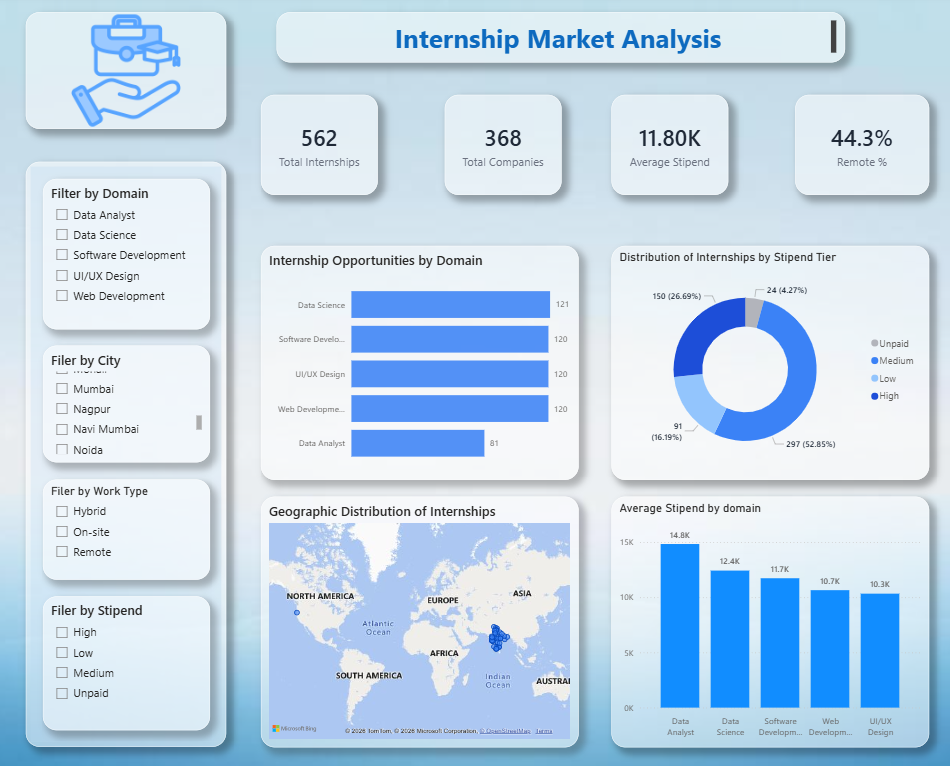

Layout of this report page (visuals, bound fields, positions):
{"tool":"powerbi","page":{"name":"Page 1","canvas":[1380,1120],"ordinal":0},"visuals":[{"type":"card","title":"Total Internships","fields":{"Values":["_Measure.Total Internships"]},"box":[384,144,168,144],"z":0},{"type":"card","title":"Remote Opportunity (%)","fields":{"Values":["_Measure.Remote %"]},"box":[1152,144,192,144],"z":1000},{"type":"card","fields":{"Values":["_Measure.Total Companies"]},"box":[648,144,168,144],"z":2000},{"type":"card","fields":{"Values":["_Measure.Average Stipend"]},"box":[888,144,168,144],"z":3000},{"type":"barChart","title":"Internship Opportunities by Domain","fields":{"Category":["internshala_cleaned_jobs.domain"],"Y":["CountNonNull(internshala_cleaned_jobs.job_title)"]},"box":[384,360,456,336],"z":4000},{"type":"donutChart","title":"Distribution of Internships by Stipend Tier","fields":{"Category":["internshala_cleaned_jobs.stipend_category"],"Y":["CountNonNull(internshala_cleaned_jobs.job_title)"]},"box":[888,360,456,336],"z":5000},{"type":"map","title":"Geographic Distribution of Internships","fields":{"Category":["internshala_cleaned_jobs.city"]},"box":[384,720,456,360],"z":6000},{"type":"columnChart","fields":{"Category":["internshala_cleaned_jobs.domain"],"Y":["_Measure.Average Stipend"]},"box":[888,720,456,360],"z":7000},{"type":"shape","box":[48,240,288,840],"z":8000},{"type":"slicer","title":"Filter by Domain","fields":{"Values":["internshala_cleaned_jobs.domain"]},"box":[72,264,240,216],"z":9000},{"type":"slicer","title":"Filer by Work Type","fields":{"Values":["internshala_cleaned_jobs.work_type"]},"box":[72,696,240,144],"z":10000},{"type":"slicer","title":"Filer by City","fields":{"Values":["internshala_cleaned_jobs.city"]},"box":[72,504,240,168],"z":11000},{"type":"slicer","title":"Filer by Stipend","fields":{"Values":["internshala_cleaned_jobs.stipend_category"]},"box":[72,864,240,192],"z":12000},{"type":"textbox","box":[408,24,816,72],"z":13000}]}

Visuals, with their boxes in screenshot pixels (x1, y1, x2, y2), scaled from the page's 1380x1120 canvas onto the 950x766 screenshot:
"Total Internships" card: [x1=264, y1=98, x2=380, y2=197]
"Remote Opportunity (%)" card: [x1=793, y1=98, x2=925, y2=197]
card - _Measure.Total Companies: [x1=446, y1=98, x2=562, y2=197]
card - _Measure.Average Stipend: [x1=611, y1=98, x2=727, y2=197]
"Internship Opportunities by Domain" barChart: [x1=264, y1=246, x2=578, y2=476]
"Distribution of Internships by Stipend Tier" donutChart: [x1=611, y1=246, x2=925, y2=476]
"Geographic Distribution of Internships" map: [x1=264, y1=492, x2=578, y2=739]
columnChart - internshala_cleaned_jobs.domain x _Measure.Average Stipend: [x1=611, y1=492, x2=925, y2=739]
shape: [x1=33, y1=164, x2=231, y2=739]
"Filter by Domain" slicer: [x1=50, y1=181, x2=215, y2=328]
"Filer by Work Type" slicer: [x1=50, y1=476, x2=215, y2=574]
"Filer by City" slicer: [x1=50, y1=345, x2=215, y2=460]
"Filer by Stipend" slicer: [x1=50, y1=591, x2=215, y2=722]
textbox: [x1=281, y1=16, x2=843, y2=66]
